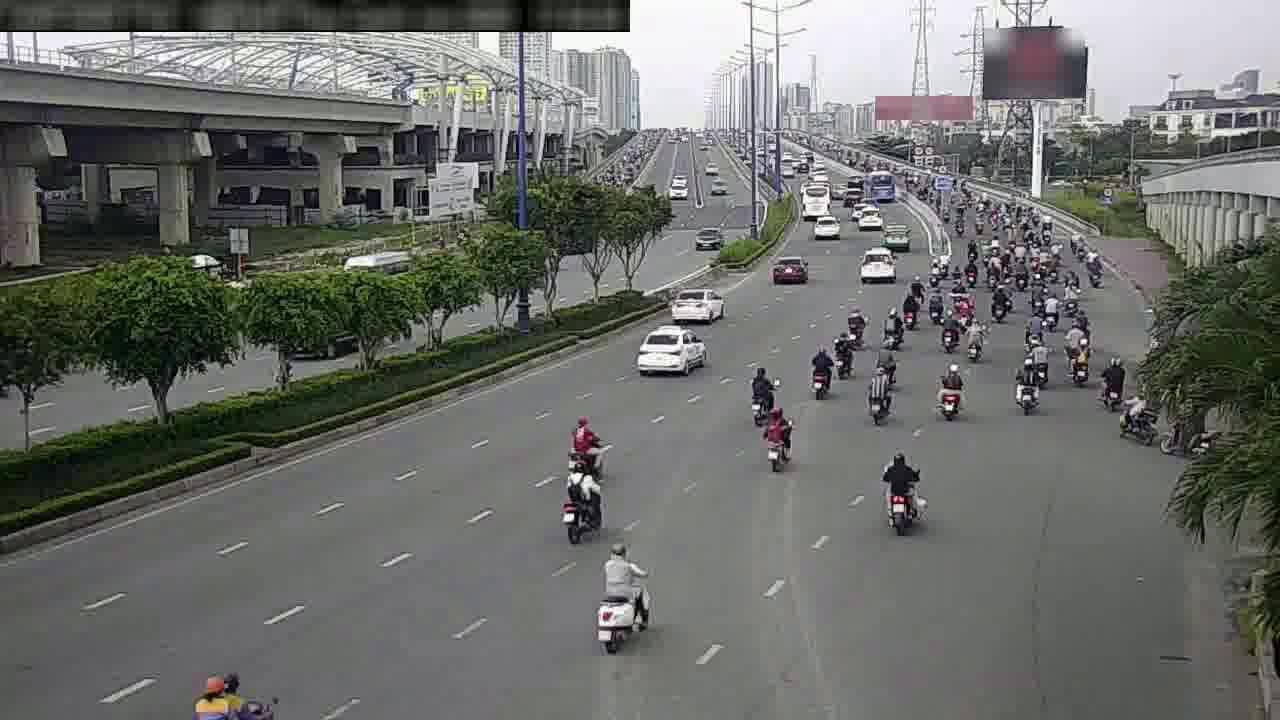14: (0, 2, 224, 104)
container: (636, 326, 710, 377), (674, 286, 725, 327), (860, 245, 898, 288), (770, 254, 811, 282)
motorbike: (597, 531, 654, 648), (190, 661, 279, 720), (884, 455, 924, 534), (560, 459, 598, 542), (742, 358, 775, 421), (763, 413, 795, 477), (938, 362, 969, 423), (1123, 394, 1157, 449), (863, 361, 892, 425), (807, 350, 836, 403), (1097, 360, 1130, 406), (1014, 358, 1035, 414), (964, 316, 986, 367), (1032, 340, 1053, 387), (881, 308, 903, 351), (991, 281, 1012, 324), (1075, 343, 1092, 396), (835, 328, 853, 378), (939, 305, 958, 351), (846, 305, 865, 349), (1024, 311, 1045, 350), (1041, 290, 1061, 330), (926, 287, 945, 324), (1066, 320, 1083, 360), (901, 291, 917, 328), (1087, 253, 1102, 286)
